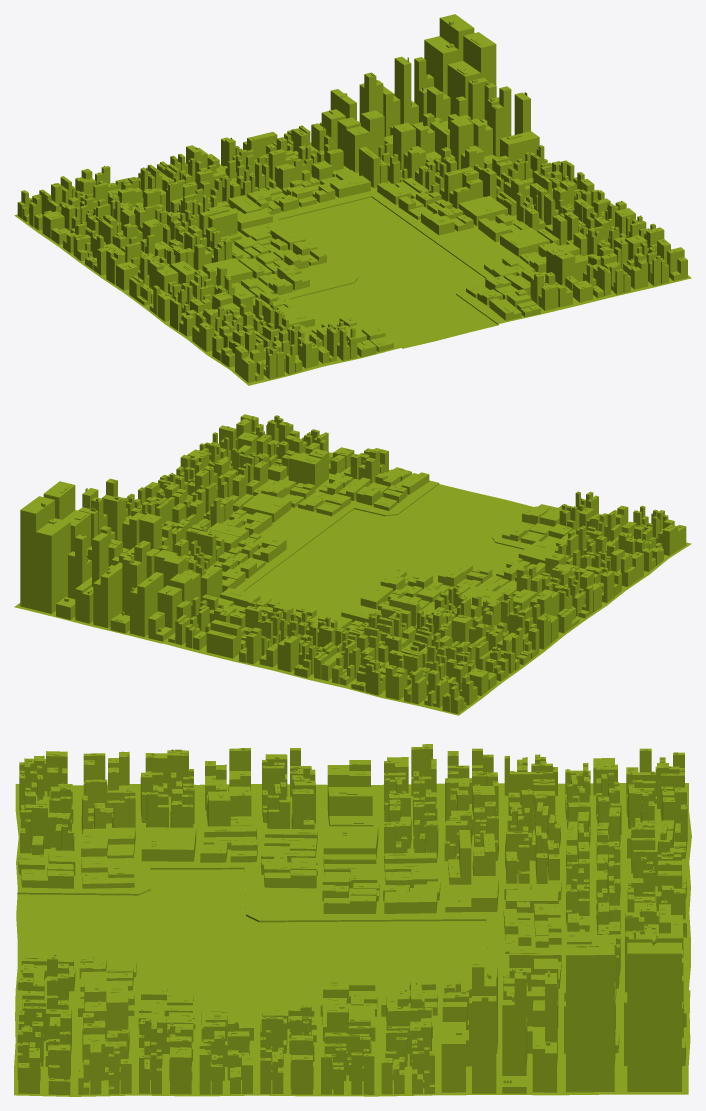
The model's file is ciudad.DAE.
3 views of the same model, one above another, from view 1: azimuth 30°, elevation 25°; view 2: azimuth 150°, elevation 25°; view 3: azimuth 270°, elevation 25° (orthographic). The views are drawn at different scales.
Visible parts, largest first — view 1: Object01, Object05, Plane01, Object02, Object06, Object03, Object04; view 2: Object01, Object05, Plane01, Object02, Object06, Object03, Object04; view 3: Object01, Object05, Plane01, Object02, Object06, Object03, Object04.
Part boxes in pixels (<box>): Object01: <box>14,123,691,385</box>; Object05: <box>273,191,514,348</box>; Plane01: <box>202,170,558,358</box>; Object02: <box>310,14,539,162</box>; Object06: <box>337,87,496,174</box>; Object03: <box>358,142,456,193</box>; Object04: <box>393,122,441,179</box>; Object01: <box>126,414,691,715</box>; Object05: <box>236,481,536,617</box>; Plane01: <box>206,467,575,630</box>; Object02: <box>14,478,181,643</box>; Object06: <box>87,512,200,607</box>; Object03: <box>159,539,222,601</box>; Object04: <box>146,548,188,578</box>; Object01: <box>14,744,691,1096</box>; Object05: <box>16,863,502,1017</box>; Plane01: <box>15,826,563,1043</box>; Object02: <box>438,912,690,1095</box>; Object06: <box>438,931,622,1067</box>; Object03: <box>439,950,561,1042</box>; Object04: <box>500,958,561,1042</box>.
Bounding box in the file's own units: 1470 × 1341 × 314.
